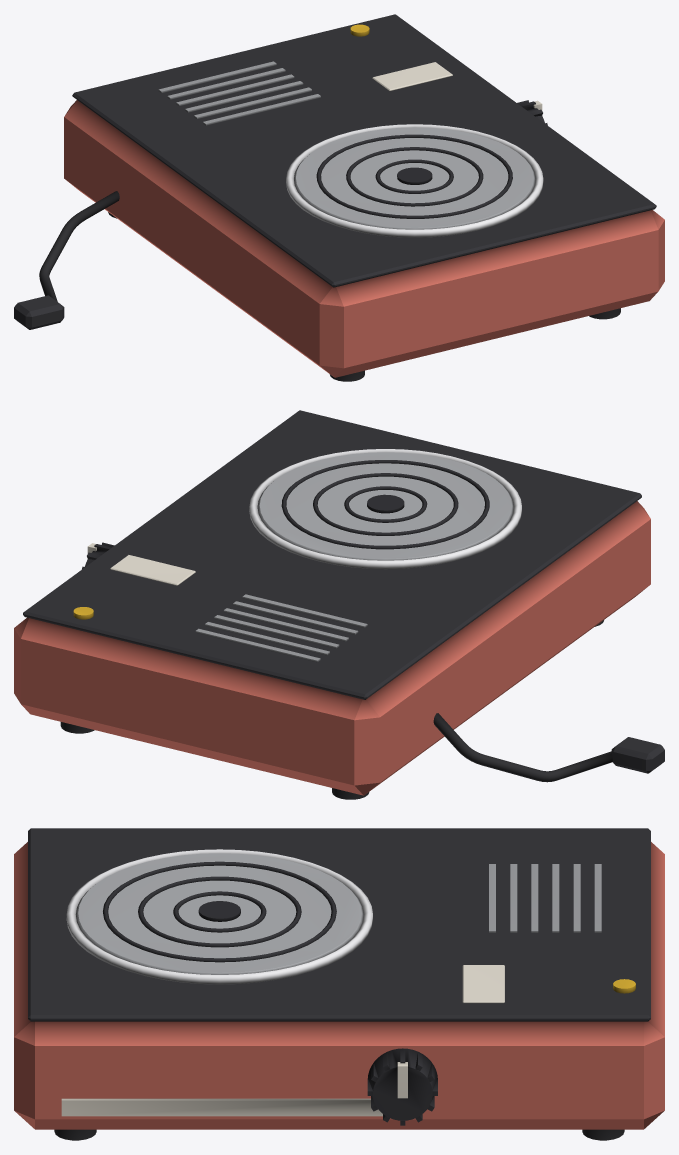
Rendered from kit_hob.glb.
3 renders of one model, top to bottom at view 1: azimuth 30°, elevation 25°; view 2: azimuth 150°, elevation 25°; view 3: azimuth 270°, elevation 25°, orthographic. The views are drawn at different scales.
Parts seen in each view (by area): view 1: PART; view 2: PART; view 3: PART, KNOB_fire.
Part boxes in pixels (x1,y1,x2,y2): PART: (14, 14, 664, 381); PART: (14, 410, 664, 799); PART: (14, 828, 664, 1140); KNOB_fire: (367, 1048, 437, 1125).
Size of the model in its own units: 0.413 by 0.0925 by 0.37.
